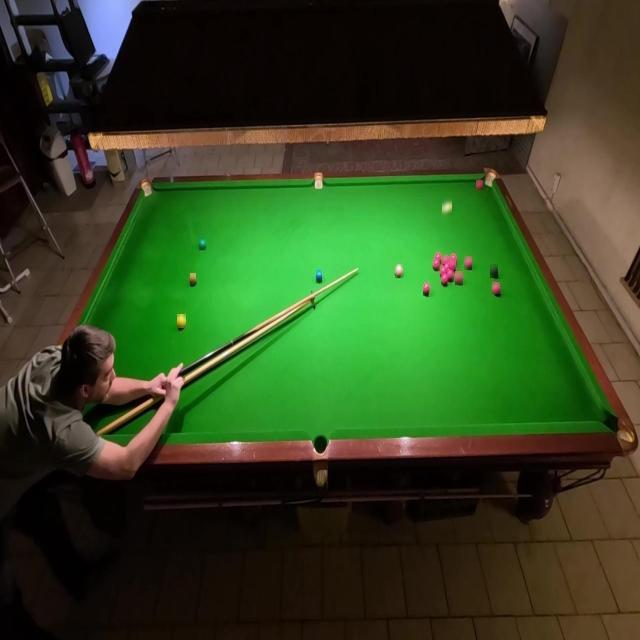Ball: (442, 198, 452, 216), (177, 314, 186, 328), (464, 256, 472, 270), (456, 271, 464, 285), (424, 282, 432, 296), (395, 264, 403, 278), (446, 269, 454, 282), (491, 264, 498, 278), (492, 282, 500, 294), (434, 252, 442, 264), (441, 274, 448, 286), (199, 238, 206, 250), (316, 270, 322, 283), (450, 258, 456, 270), (190, 274, 196, 286), (476, 180, 483, 190), (440, 266, 447, 276), (443, 256, 450, 264), (434, 262, 440, 271), (446, 262, 452, 270), (451, 253, 456, 258)
